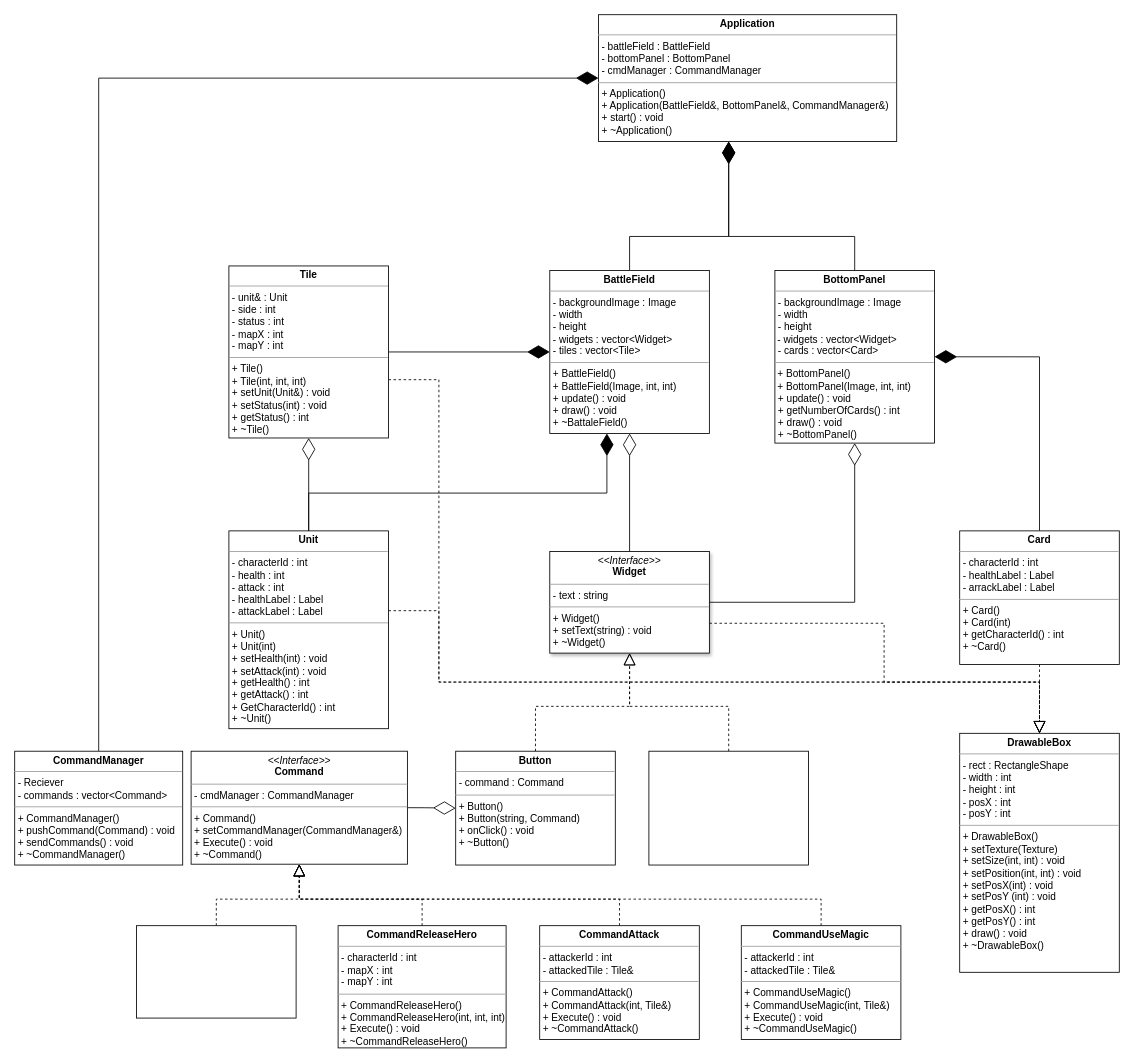
The diagram is 1134 pixels wide and 1063 high, and some of its shapes have lost their labels. Here are the shapes that lost their labels. From the top down, the centre of each, then its label:
(x=728, y=807): Label + Label() + Label(string) + ~Label()
(x=216, y=971): CommandTakeCard + CommandTakeCard() + Execute() : void + ~CommandTakeCard()
